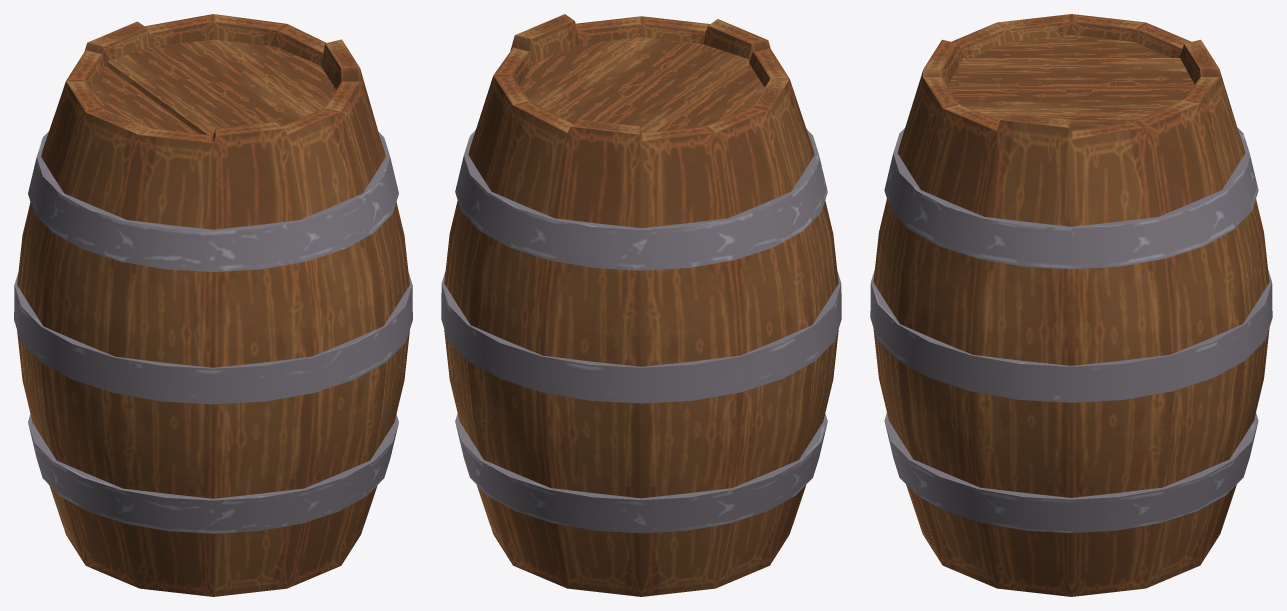
3 renders of one model, left to right at view 1: azimuth 30°, elevation 25°; view 2: azimuth 150°, elevation 25°; view 3: azimuth 270°, elevation 25°, orthographic.
Visible parts, largest first — view 1: cf4033cb853c44a487397970d48170db13d9e081d1dc04f79877a0a818a9; view 2: cf4033cb853c44a487397970d48170db13d9e081d1dc04f79877a0a818a9; view 3: cf4033cb853c44a487397970d48170db13d9e081d1dc04f79877a0a818a9.
Part boxes in pixels (bbox=[...]): cf4033cb853c44a487397970d48170db13d9e081d1dc04f79877a0a818a9: bbox=[14, 14, 412, 596]; cf4033cb853c44a487397970d48170db13d9e081d1dc04f79877a0a818a9: bbox=[441, 14, 841, 596]; cf4033cb853c44a487397970d48170db13d9e081d1dc04f79877a0a818a9: bbox=[870, 14, 1272, 596].
Bounding box in the file's own units: 0.698 × 0.898 × 0.698.
2 materials, 2 textured.
